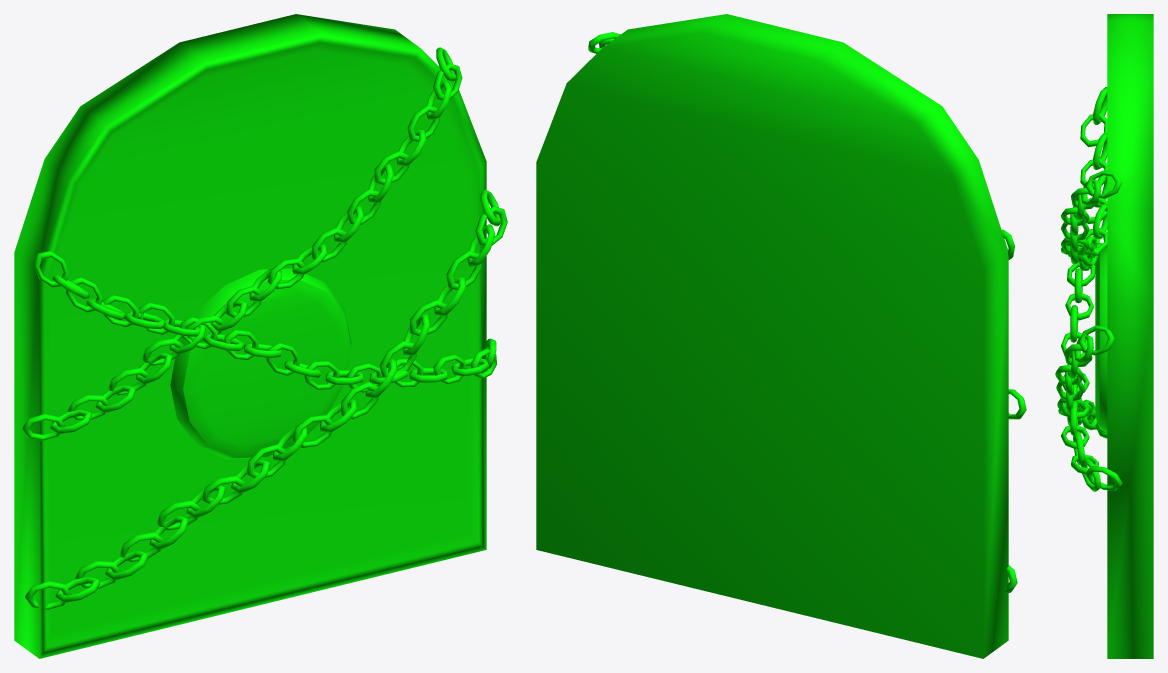
The model's file is Door.fbx.
3 views of the same model, side by side, from view 1: azimuth 30°, elevation 25°; view 2: azimuth 150°, elevation 25°; view 3: azimuth 270°, elevation 25° (orthographic). The views are drawn at different scales.
Visible parts, largest first — view 1: Door; view 2: Door; view 3: Door.
Part boxes in pixels (<box>): Door: <box>14,14,507,658</box>; Door: <box>536,14,1026,658</box>; Door: <box>1055,14,1153,658</box>.
Size of the model in its own units: 10.85 by 12.17 by 2.13.
